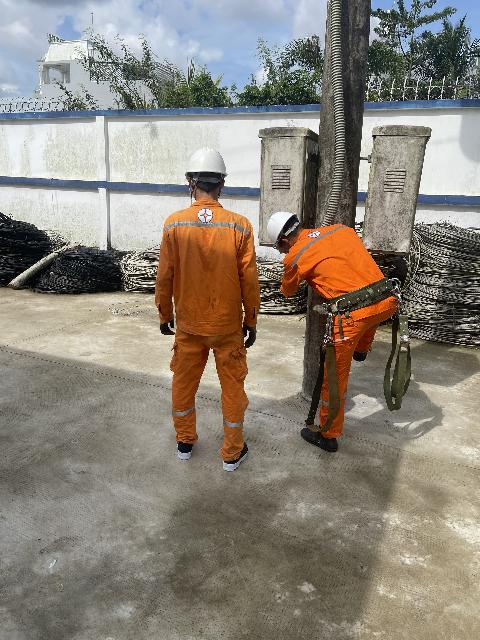gloves: (234, 313, 264, 350), (156, 313, 183, 342)
harness: (297, 278, 421, 336)
helmet: (175, 143, 233, 182), (259, 205, 305, 251)
shoes: (300, 418, 350, 456), (217, 429, 249, 471), (172, 427, 197, 462)
